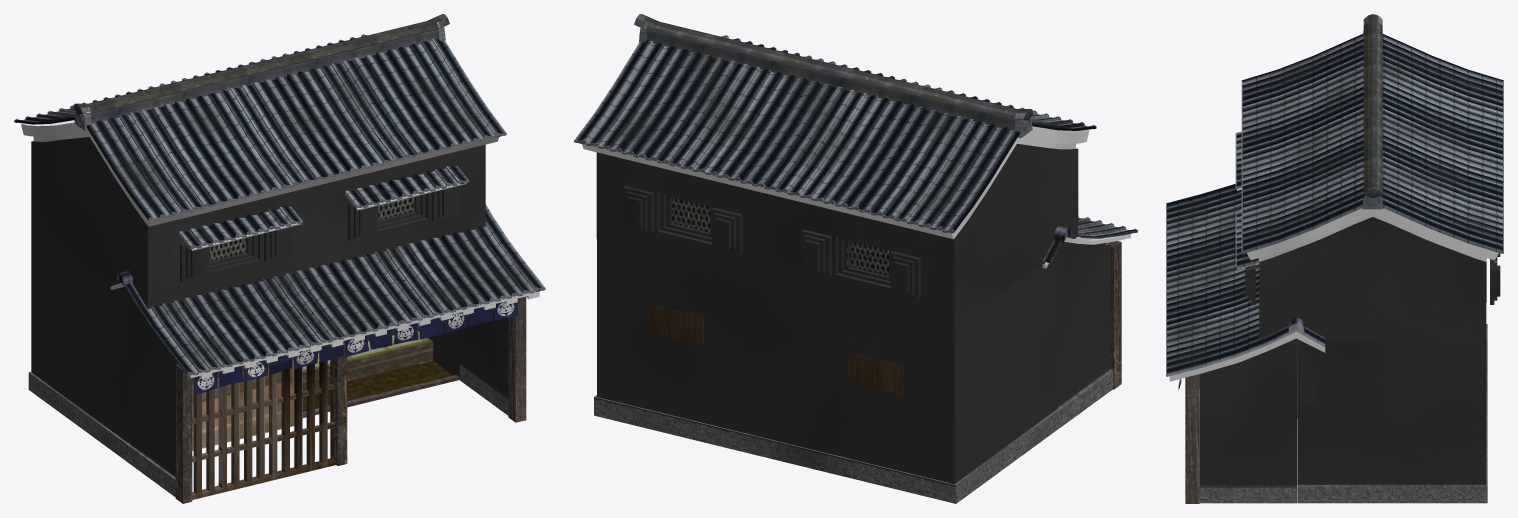
The model's file is es_shop01.glb.
The picture shows the model from 3 angles, left to right: view 1: azimuth 30°, elevation 25°; view 2: azimuth 150°, elevation 25°; view 3: azimuth 270°, elevation 25°; orthographic projection. The views are drawn at different scales.
Parts seen in each view (by area): view 1: shop01; view 2: shop01; view 3: shop01.
Boxes of the visible parts, x1=… form: shop01: x1=14, y1=14, x2=545, y2=503; shop01: x1=574, y1=14, x2=1137, y2=503; shop01: x1=1166, y1=14, x2=1503, y2=503.
Bounding box in the file's own units: 6.03 × 5.2 × 4.93.
Materials: 1 (1 with a texture image).
